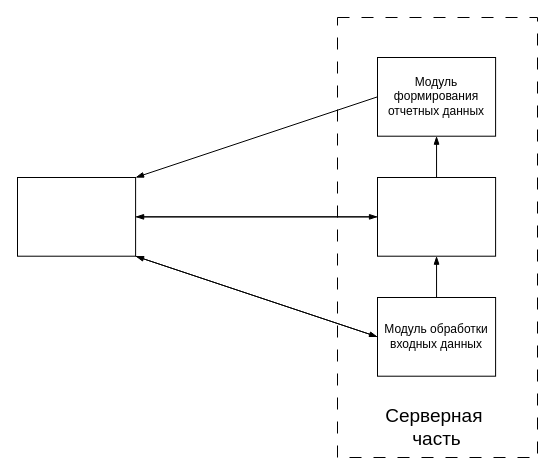
Image size: 555x475. Some labels were removed from this diagram. Here are the shapes that lost their labels. From the top down, the box of each, then its label:
(16, 176, 136, 256): Модуль графического интерфейса
(376, 176, 496, 256): Модуль анализирования
